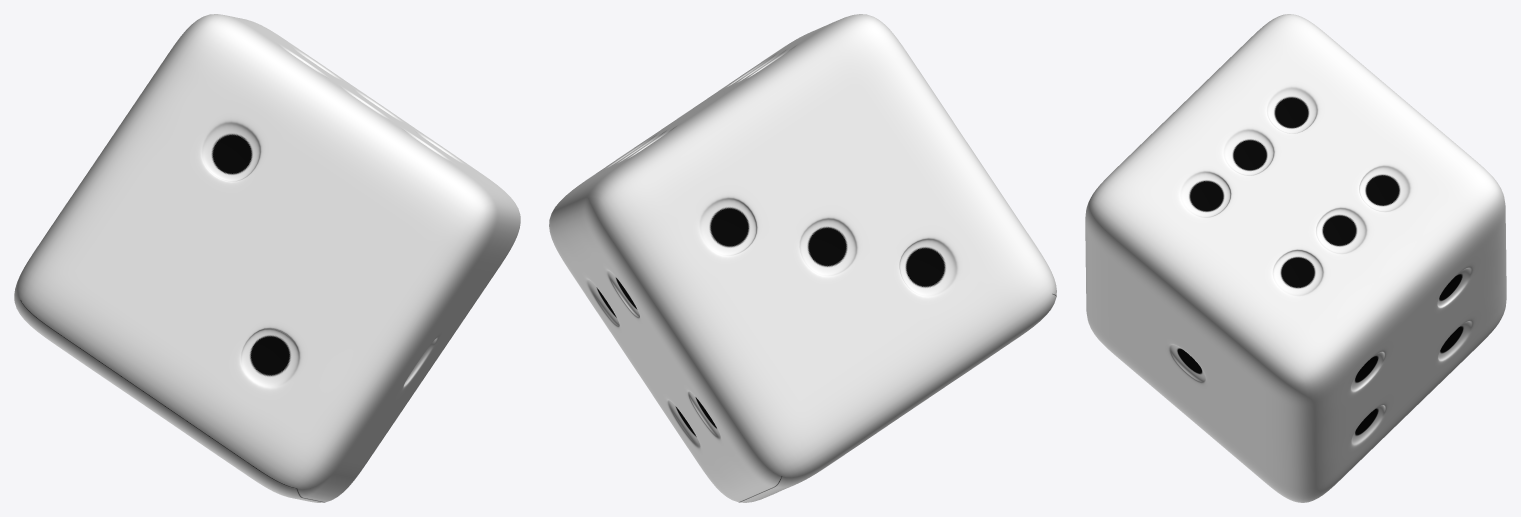
File: Dice.fbx
3 renders of one model, left to right at view 1: azimuth 30°, elevation 25°; view 2: azimuth 150°, elevation 25°; view 3: azimuth 270°, elevation 25°, orthographic. The views are drawn at different scales.
Visible parts, largest first — view 1: pCube1; view 2: pCube1; view 3: pCube1.
Boxes of the visible parts, box(x1,y1,x2,y2) form: pCube1: box(14, 14, 520, 502); pCube1: box(549, 14, 1056, 502); pCube1: box(1085, 14, 1506, 502).
Size of the model in its own units: 3.08 by 3 by 2.62.
